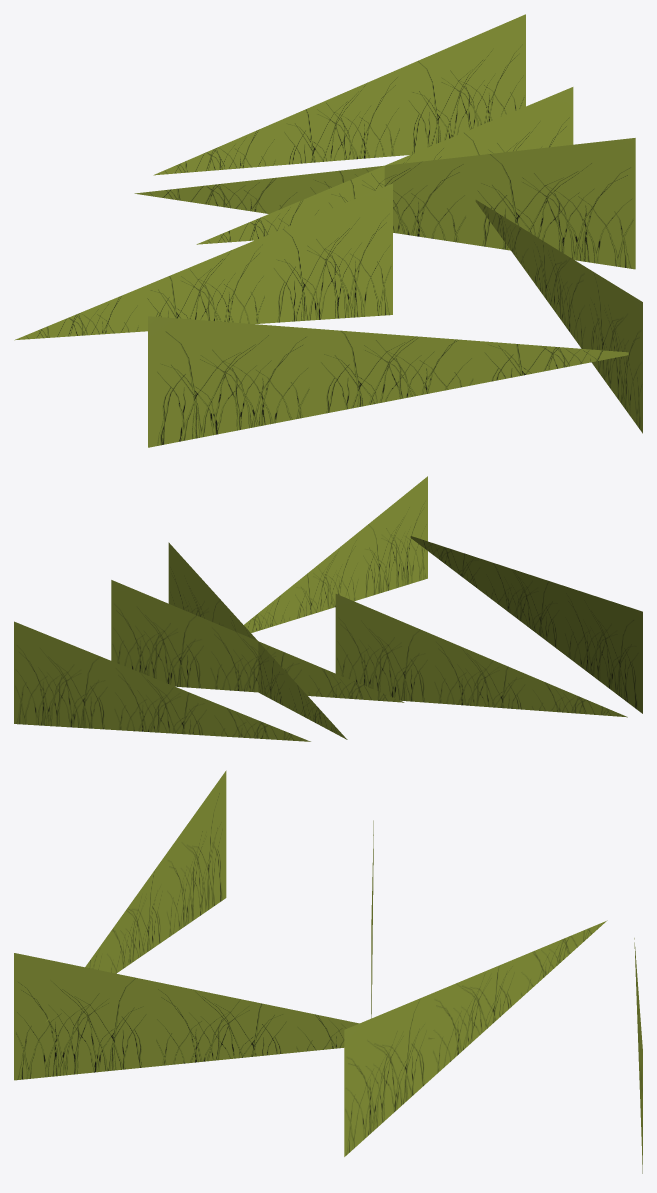
File: Grass_LOD2.fbx
3 renders of one model, top to bottom at view 1: azimuth 30°, elevation 25°; view 2: azimuth 150°, elevation 25°; view 3: azimuth 270°, elevation 25°, orthographic. The views are drawn at different scales.
Parts seen in each view (by area): view 1: Grass; view 2: Grass; view 3: Grass.
Part boxes in pixels (x1,y1,x2,y2): Grass: (14,14,642,447); Grass: (14,476,642,741); Grass: (14,770,642,1173).
Bounding box in the file's own units: 403 × 77.9 × 348.
